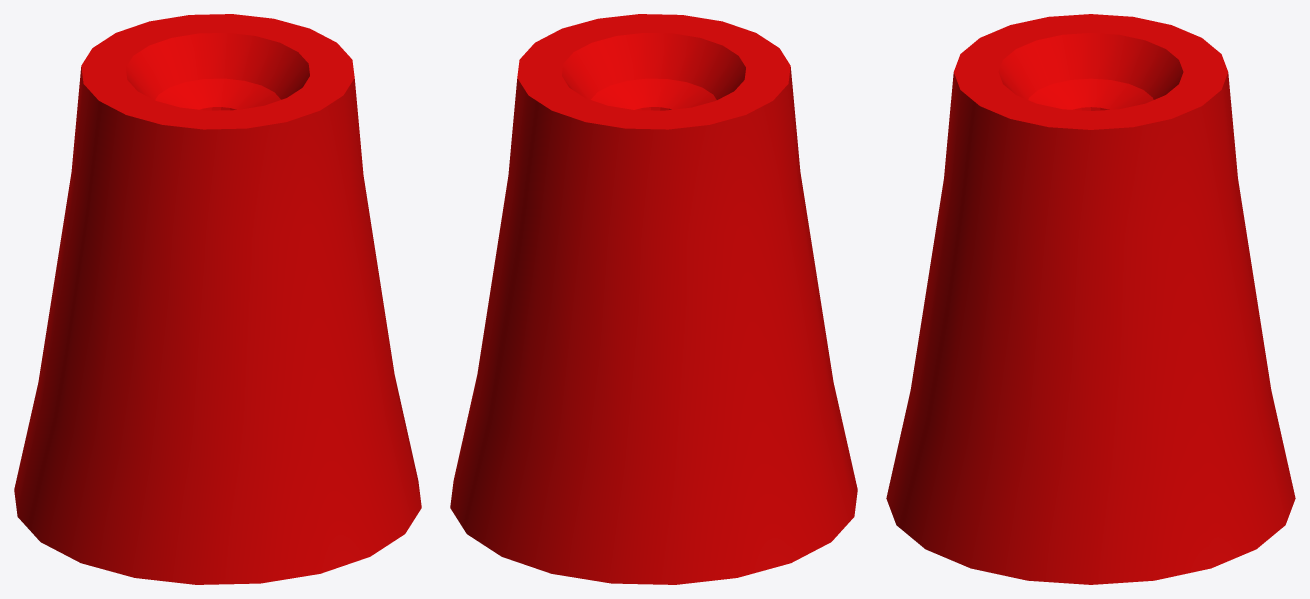
File: silo 2 combined colider.fbx
3 views of the same model, side by side, from view 1: azimuth 30°, elevation 25°; view 2: azimuth 150°, elevation 25°; view 3: azimuth 270°, elevation 25° (orthographic).
Visible parts, largest first — view 1: SILO__colider; view 2: SILO__colider; view 3: SILO__colider.
Part boxes in pixels (left/top/right/bottom): SILO__colider: left=14, top=14, right=421, bottom=584; SILO__colider: left=450, top=14, right=857, bottom=584; SILO__colider: left=886, top=14, right=1295, bottom=584.
Bounding box in the file's own units: 20.11 × 23.68 × 20.11.
